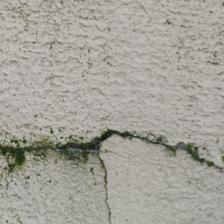Crack: (4, 68, 116, 156), (0, 196, 61, 224)
